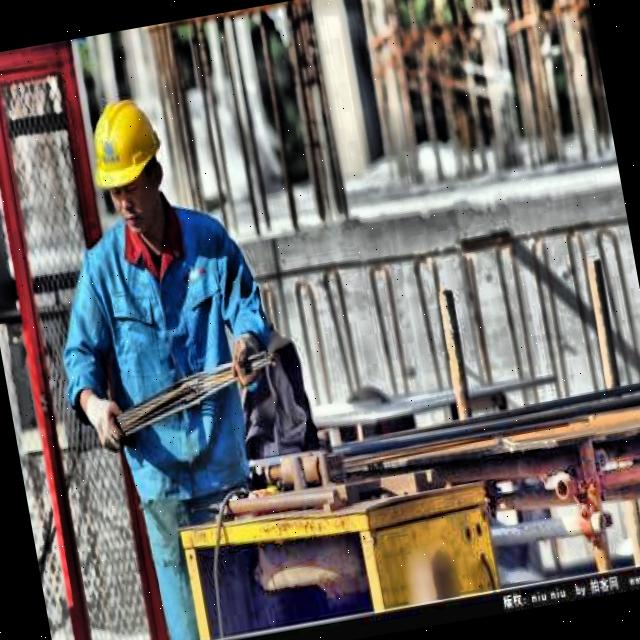helmet: (76, 80, 185, 249)
